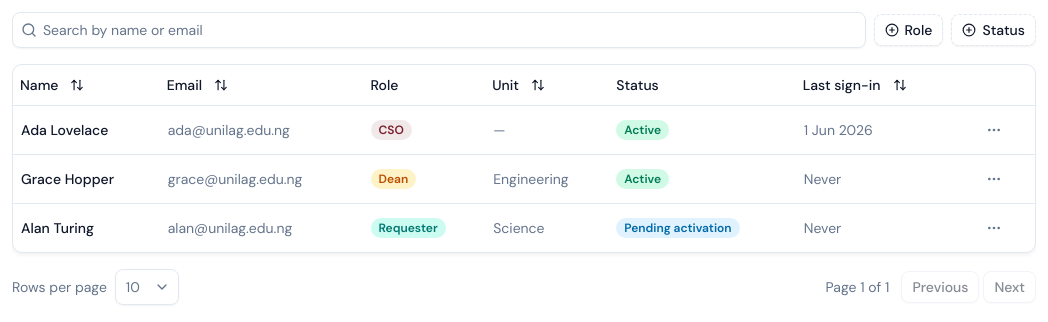
Scenario: UsersDataTable › filters by the global search box across name and email
Type "grace" into the search field named "Search users" at (451, 30), box [37,12,864,48]
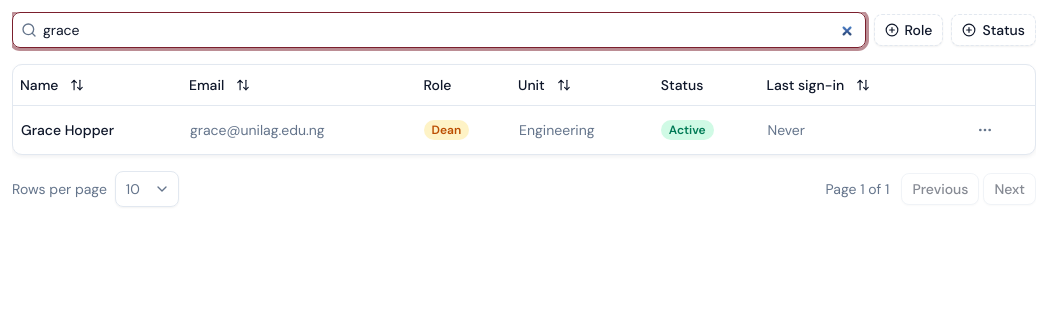
expect the text "Grace Hopper" is shown: met, box [21,120,114,138]
expect the text "Ada Lovelace" is gone: met
expect the text "Alan Turing" is gone: met
